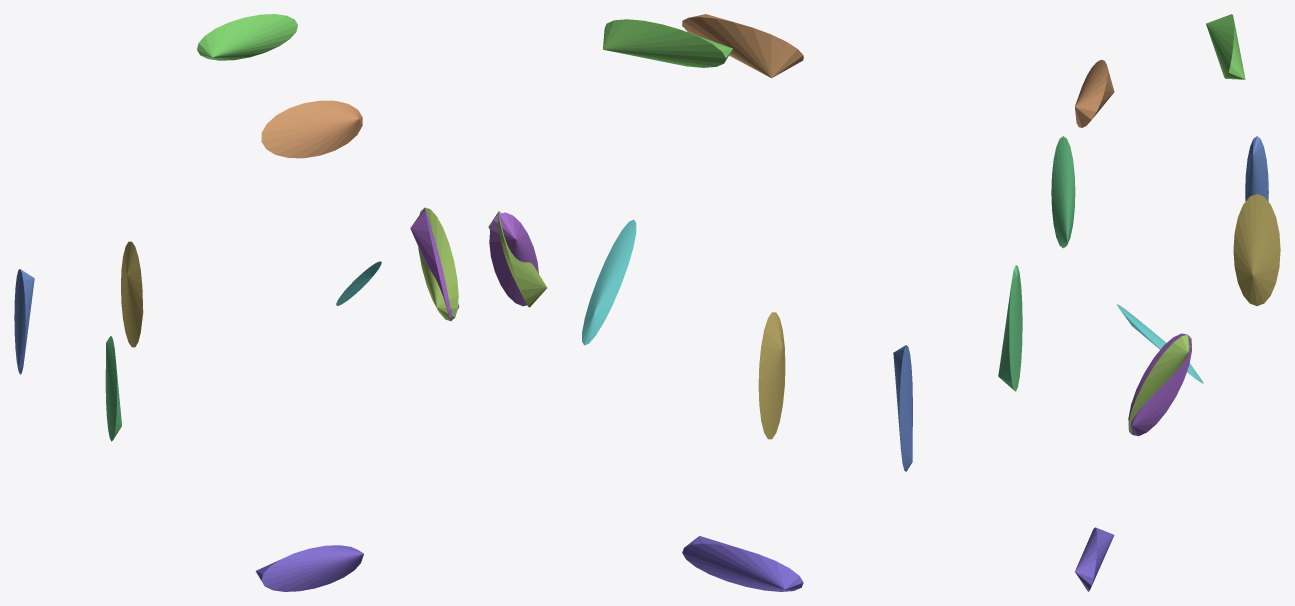
Rendered from knot.glb.
3 views of the same model, side by side, from view 1: azimuth 30°, elevation 25°; view 2: azimuth 150°, elevation 25°; view 3: azimuth 270°, elevation 25° (orthographic). The views are drawn at different scales.
Parts seen in each view (by area): view 1: TorusKnot; view 2: TorusKnot; view 3: TorusKnot.
Boxes of the visible parts, box(x1,y1,x2,y2) form: TorusKnot: box(14, 14, 459, 591); TorusKnot: box(488, 14, 1022, 591); TorusKnot: box(1051, 14, 1280, 591).
Bounding box in the file's own units: 2.43 × 3.14 × 1.18.
